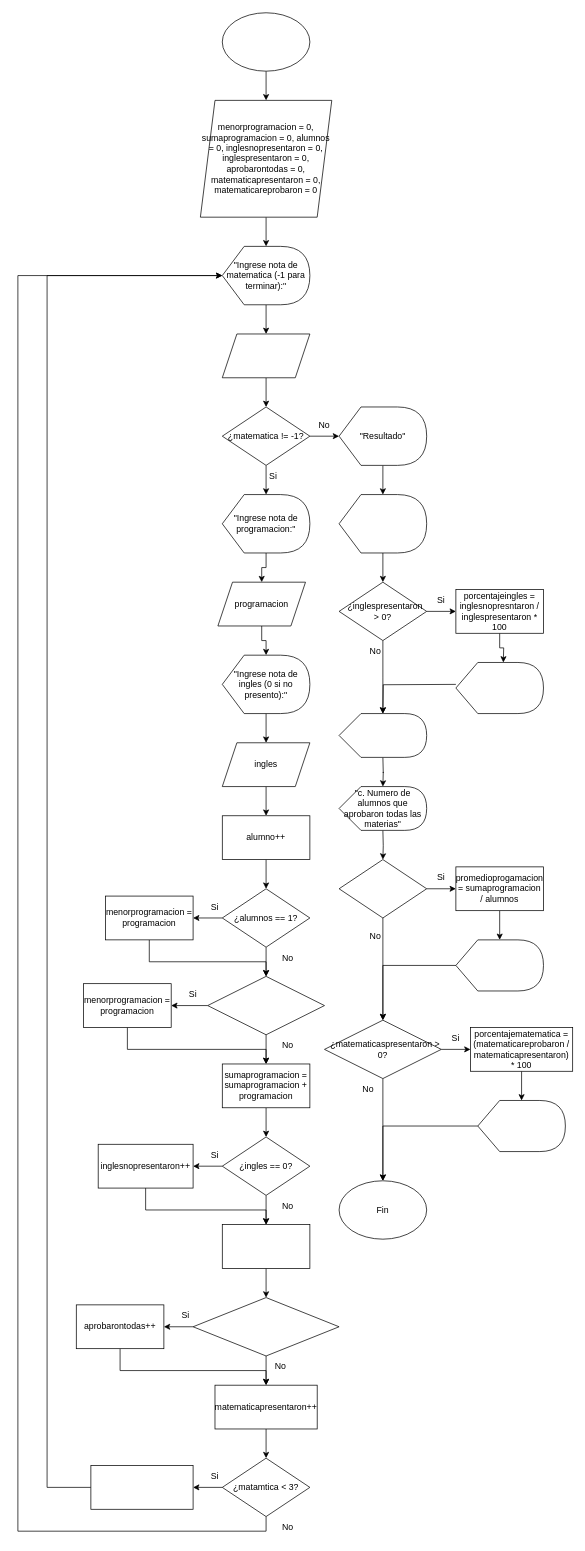
Image size: 585x1551. Some labels were removed from this diagram. The centre of each missing label's shape, as x and y in pixels:
"a. Nota menor de programacion: " + menorprogramacion: [382,523]
"b. No hubo alumnos que presentaran ingles": [382,735]
"b. Porcentaje de alumnos que no presentaron ingles: " + porcentajeingles + "%": [499,688]
"d. Promedio general en programacion: " + promedioprogramacion: [499,965]
"e. Porcentaje que reprobaron matematica: " + porcentajematematica + "%": [521,1126]
inglespresentaron++: [266,1246]
Inicio: [266,41]
matematica: [266,355]
matematicareprobaron++: [141,1487]
¿alumnos > 0?: [382,888]
¿matematica >= 3 Y programacion >= 3 Y ingles >= 3?: [265,1326]
¿programacion < menorprogramacion?: [265,1005]
